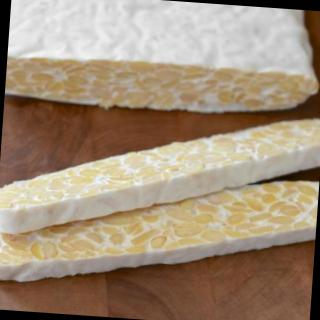Tempe: (1, 95, 320, 307)
